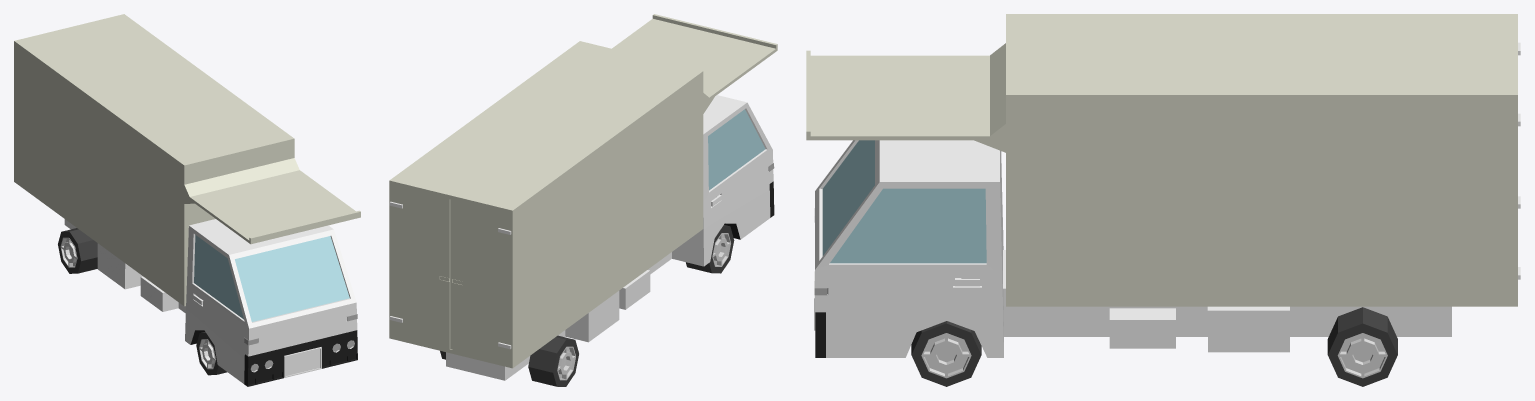
The model's file is van.fbx.
3 renders of one model, left to right at view 1: azimuth 30°, elevation 25°; view 2: azimuth 150°, elevation 25°; view 3: azimuth 270°, elevation 25°, orthographic. The views are drawn at different scales.
Visible parts, largest first — view 1: Truck; view 2: Truck; view 3: Truck.
Part boxes in pixels (x1=…): Truck: x1=14, y1=14, x2=360, y2=386; Truck: x1=389, y1=14, x2=777, y2=386; Truck: x1=806, y1=14, x2=1520, y2=386.
Size of the model in its own units: 59.73 by 102 by 223.
